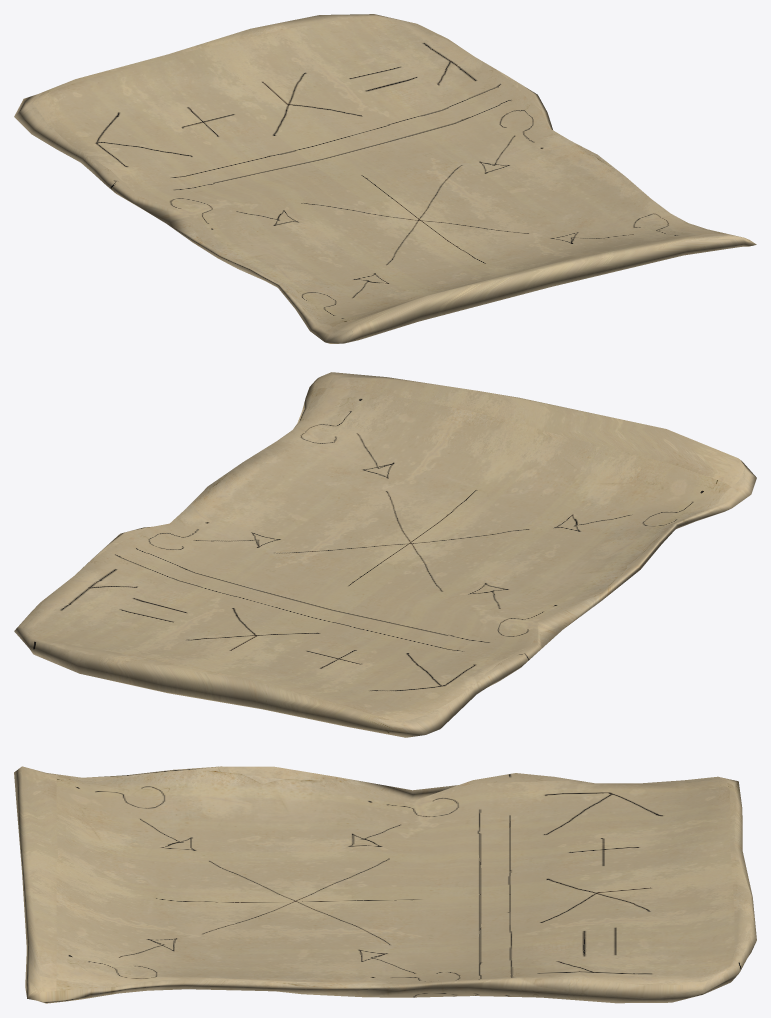
Rendered from Written_Page_Laboratory.fbx.
The picture shows the model from 3 angles, top to bottom: view 1: azimuth 30°, elevation 25°; view 2: azimuth 150°, elevation 25°; view 3: azimuth 270°, elevation 25°; orthographic projection. The views are drawn at different scales.
Visible parts, largest first — view 1: Written_Page_Laboratory; view 2: Written_Page_Laboratory; view 3: Written_Page_Laboratory.
Boxes of the visible parts, x1,y1,x2,y2 form: Written_Page_Laboratory: (14, 14, 756, 343); Written_Page_Laboratory: (14, 372, 756, 737); Written_Page_Laboratory: (14, 766, 756, 1003).
Size of the model in its own units: 35.18 by 6.4 by 49.2.
